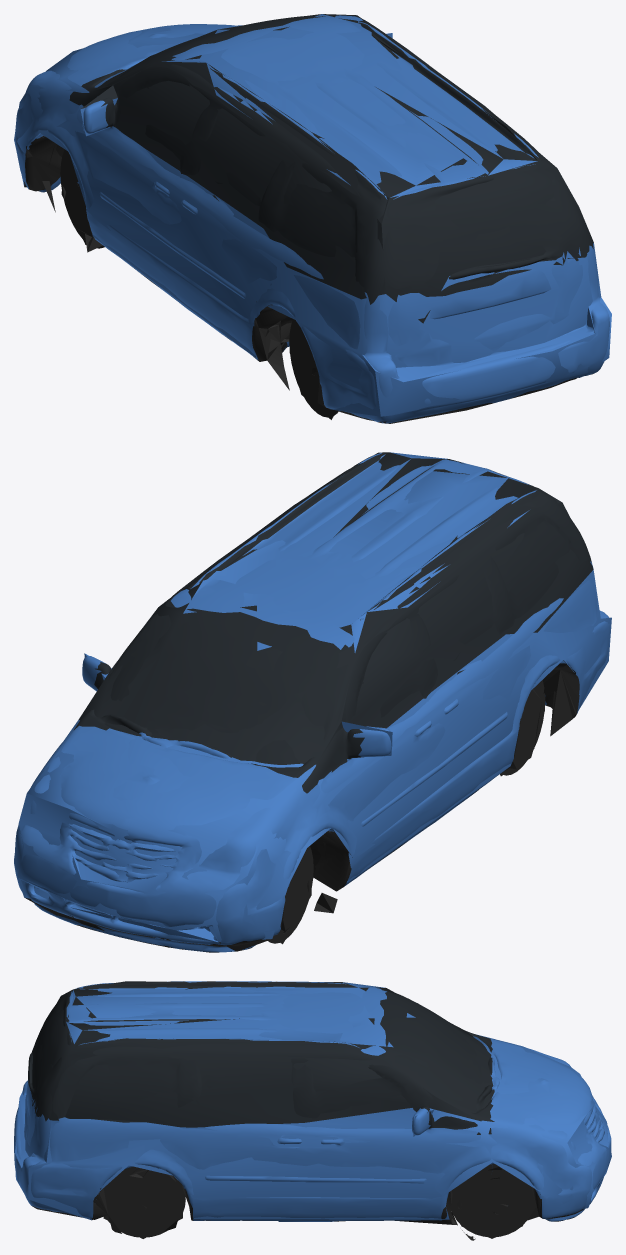
The model's file is chrysler-town-and-country.glb.
The picture shows the model from 3 angles, top to bottom: view 1: azimuth 30°, elevation 25°; view 2: azimuth 150°, elevation 25°; view 3: azimuth 270°, elevation 25°; orthographic projection. The views are drawn at different scales.
Parts seen in each view (by area): view 1: body, far; view 2: body, far; view 3: body, far.
Part boxes in pixels (left/top/right/bottom): body: left=15, top=15, right=609, bottom=423; far: left=14, top=14, right=611, bottom=419; body: left=14, top=452, right=610, bottom=952; far: left=17, top=452, right=611, bottom=951; body: left=14, top=981, right=611, bottom=1239; far: left=15, top=981, right=611, bottom=1240.
Bounding box in the file's own units: 2.36 × 1.86 × 5.21.
